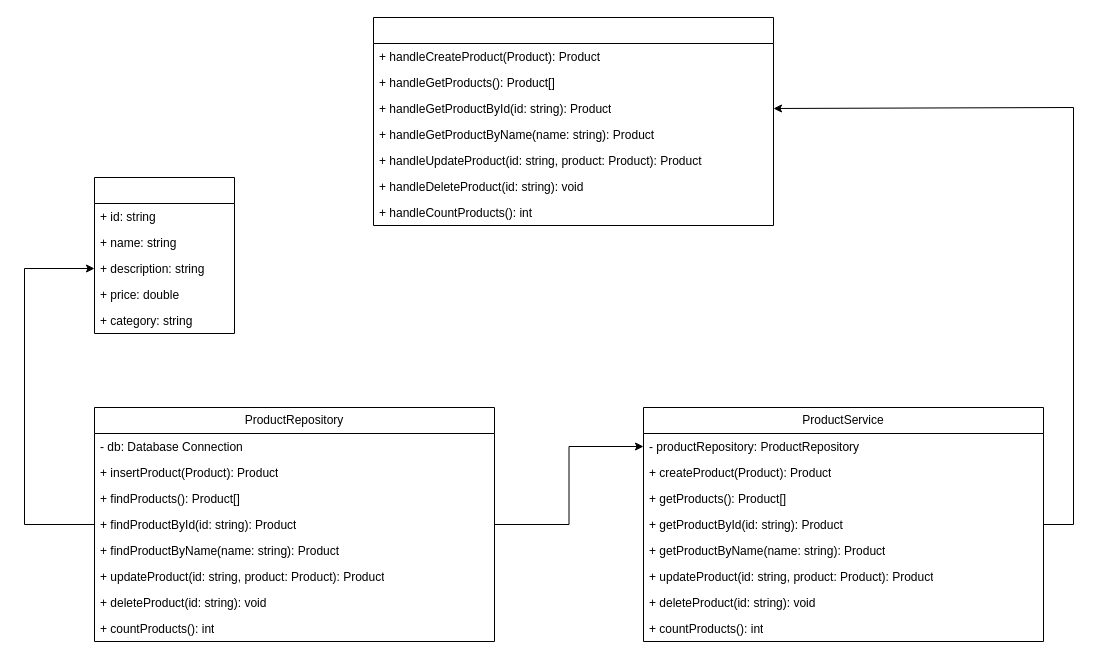
The diagram is 1099 pixels wide and 662 high, and some of its shapes have lost their labels. Each missing label, with the box of its shape:
Product: (94, 176, 234, 334)
ProductController: (372, 16, 774, 226)
